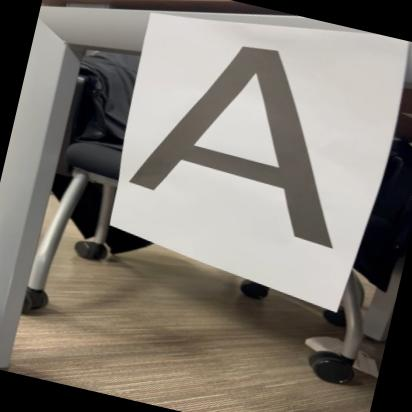seat: (118, 20, 383, 256)
